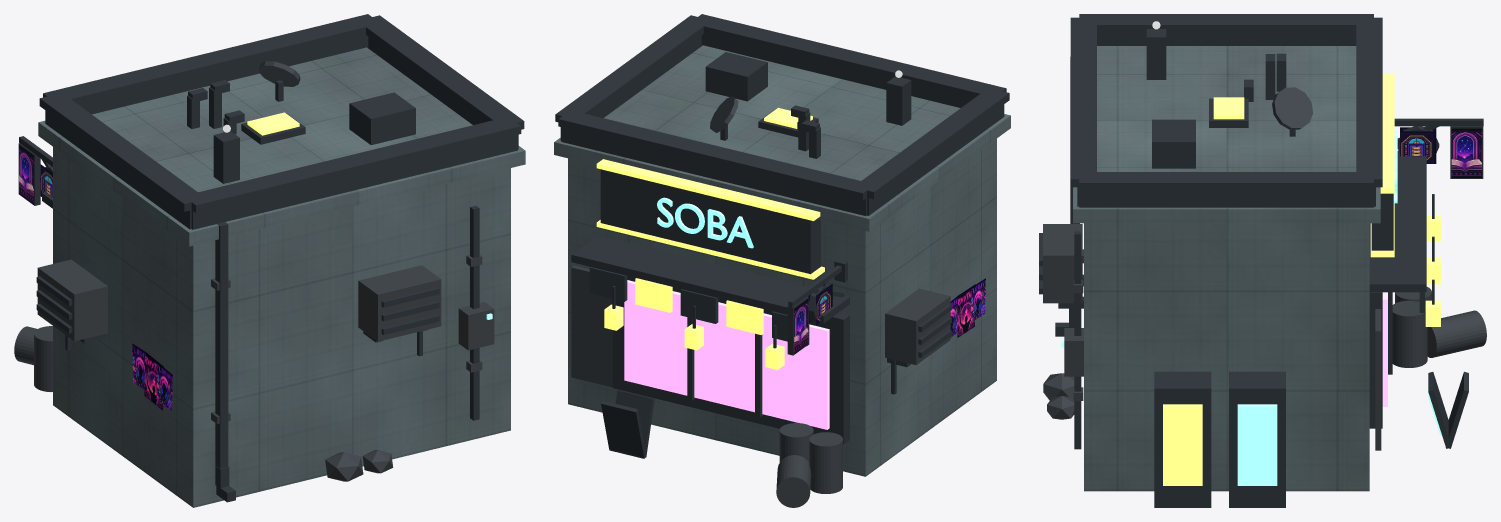
The model's file is synthwave-shop-b.glb.
3 views of the same model, side by side, from view 1: azimuth 30°, elevation 25°; view 2: azimuth 150°, elevation 25°; view 3: azimuth 270°, elevation 25° (orthographic). The views are drawn at different scales.
Visible parts, largest first — view 1: Shop_Body2, Shop_Frame, Shop_Door, RK_Duct, Shop_ShopPosters, RK_Vent, RK_Dish8_15, RK_SkyGlass-2_1, Shop_BrkBrandSOBA, RK_SkyFrame-2_1; view 2: Shop_Body2, Shop_Frame, ShopPane, Shop_Door, Shop_NeonA, Shop_PaneOff, RK_Duct, Shop_PaneADim, ShopSignText, Shop_ShopPosters, Shop_DimA, RK_Vent (+2 smaller); view 3: Shop_Body2, Shop_Frame, Shop_Door, VendGlow1, VendGlow0, RK_Duct, Shop_NeonA, Shop_BrkBrandSOBA, RK_Dish8_15, Shop_DimA, Shop_BrkEmbSOBA, RK_Vent (+3 smaller).
Boxes of the visible parts, x1,y1,x2,y2 form: Shop_Body2: (38, 47, 525, 507); Shop_Frame: (18, 14, 524, 502); Shop_Door: (14, 255, 494, 481); RK_Duct: (349, 92, 415, 145); Shop_ShopPosters: (132, 343, 172, 410); RK_Vent: (213, 131, 239, 183); RK_Dish8_15: (259, 61, 300, 86); RK_SkyGlass-2_1: (247, 112, 299, 135); Shop_BrkBrandSOBA: (19, 145, 33, 203); RK_SkyFrame-2_1: (241, 113, 305, 144); Shop_Body2: (554, 45, 1010, 476); Shop_Frame: (555, 14, 1009, 458); ShopPane: (624, 280, 829, 429); Shop_Door: (571, 265, 950, 507); Shop_NeonA: (596, 159, 824, 279); Shop_PaneOff: (589, 267, 809, 346); RK_Duct: (705, 52, 767, 101); Shop_PaneADim: (635, 278, 763, 334); ShopSignText: (657, 197, 753, 248); Shop_ShopPosters: (950, 278, 985, 337); Shop_DimA: (604, 304, 784, 369); RK_Vent: (886, 76, 911, 125); Shop_Body2: (1073, 46, 1380, 491); Shop_Frame: (1039, 14, 1483, 507); Shop_Door: (1043, 224, 1486, 450); VendGlow1: (1237, 404, 1277, 485); VendGlow0: (1163, 404, 1202, 485); RK_Duct: (1152, 119, 1195, 168); Shop_NeonA: (1370, 73, 1394, 257); Shop_BrkBrandSOBA: (1451, 128, 1481, 177); RK_Dish8_15: (1272, 87, 1312, 129); Shop_DimA: (1425, 215, 1440, 326); Shop_BrkEmbSOBA: (1400, 127, 1436, 163); RK_Vent: (1146, 29, 1166, 79).
Size of the model in its own units: 1.05 by 0.8696 by 1.02.
16 materials, 4 textured.
